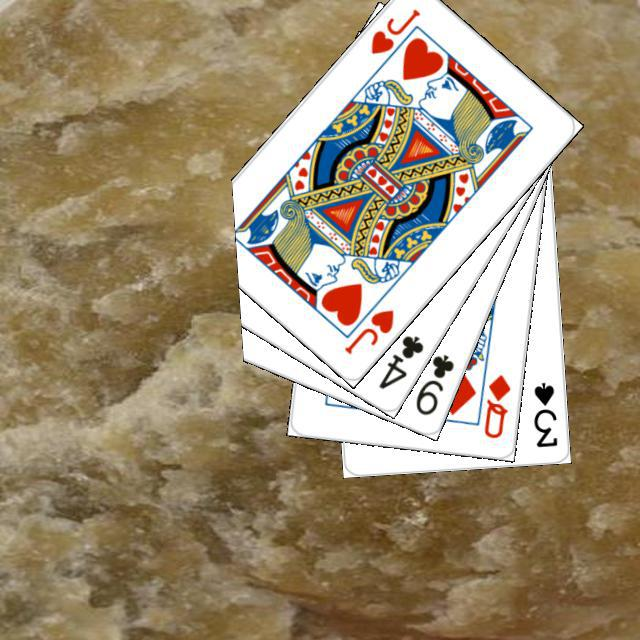3s: (529, 377, 559, 449)
4c: (373, 330, 426, 391)
9c: (410, 349, 456, 417)
Jh: (339, 304, 396, 356), (365, 4, 422, 56)
Qd: (479, 370, 512, 440)
